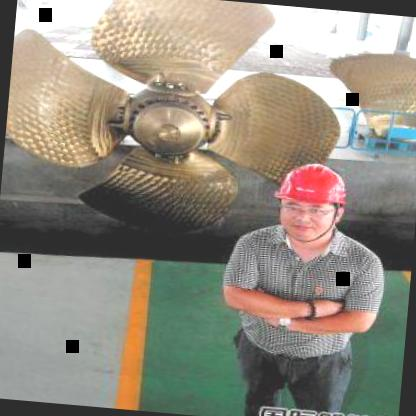helmet: (262, 152, 359, 247)
